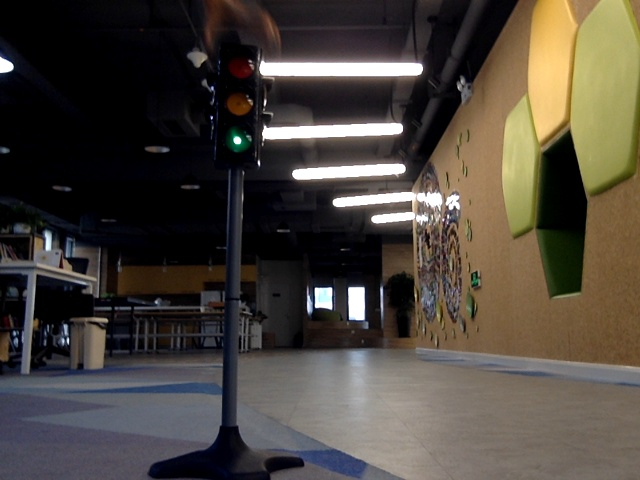green: (220, 55, 253, 163)
